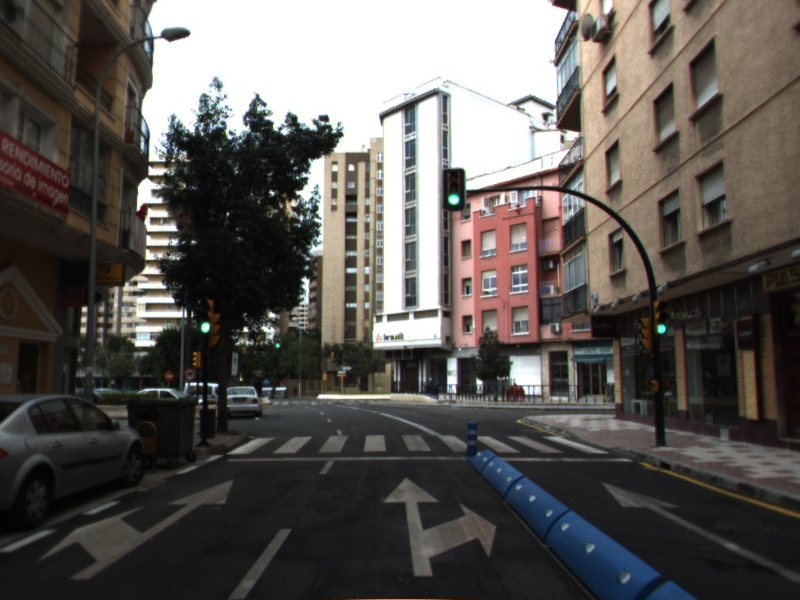STRAIGHT: (598, 478, 800, 582)
STRAIGHT_LEFT: (36, 476, 237, 583)
STRAIGHT_RIGHT: (380, 474, 500, 579)
